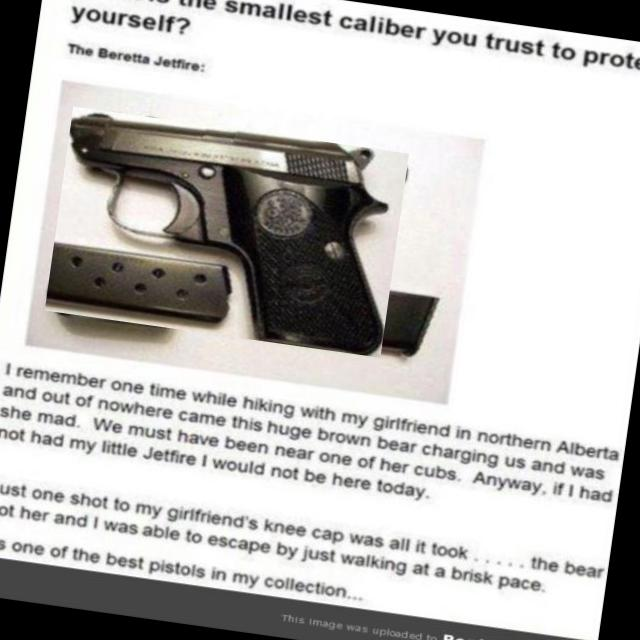Gun: (71, 115, 387, 356)
